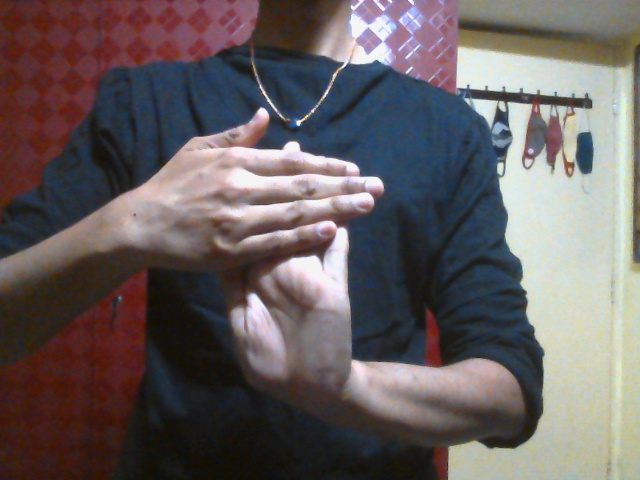H: (153, 109, 386, 410)
